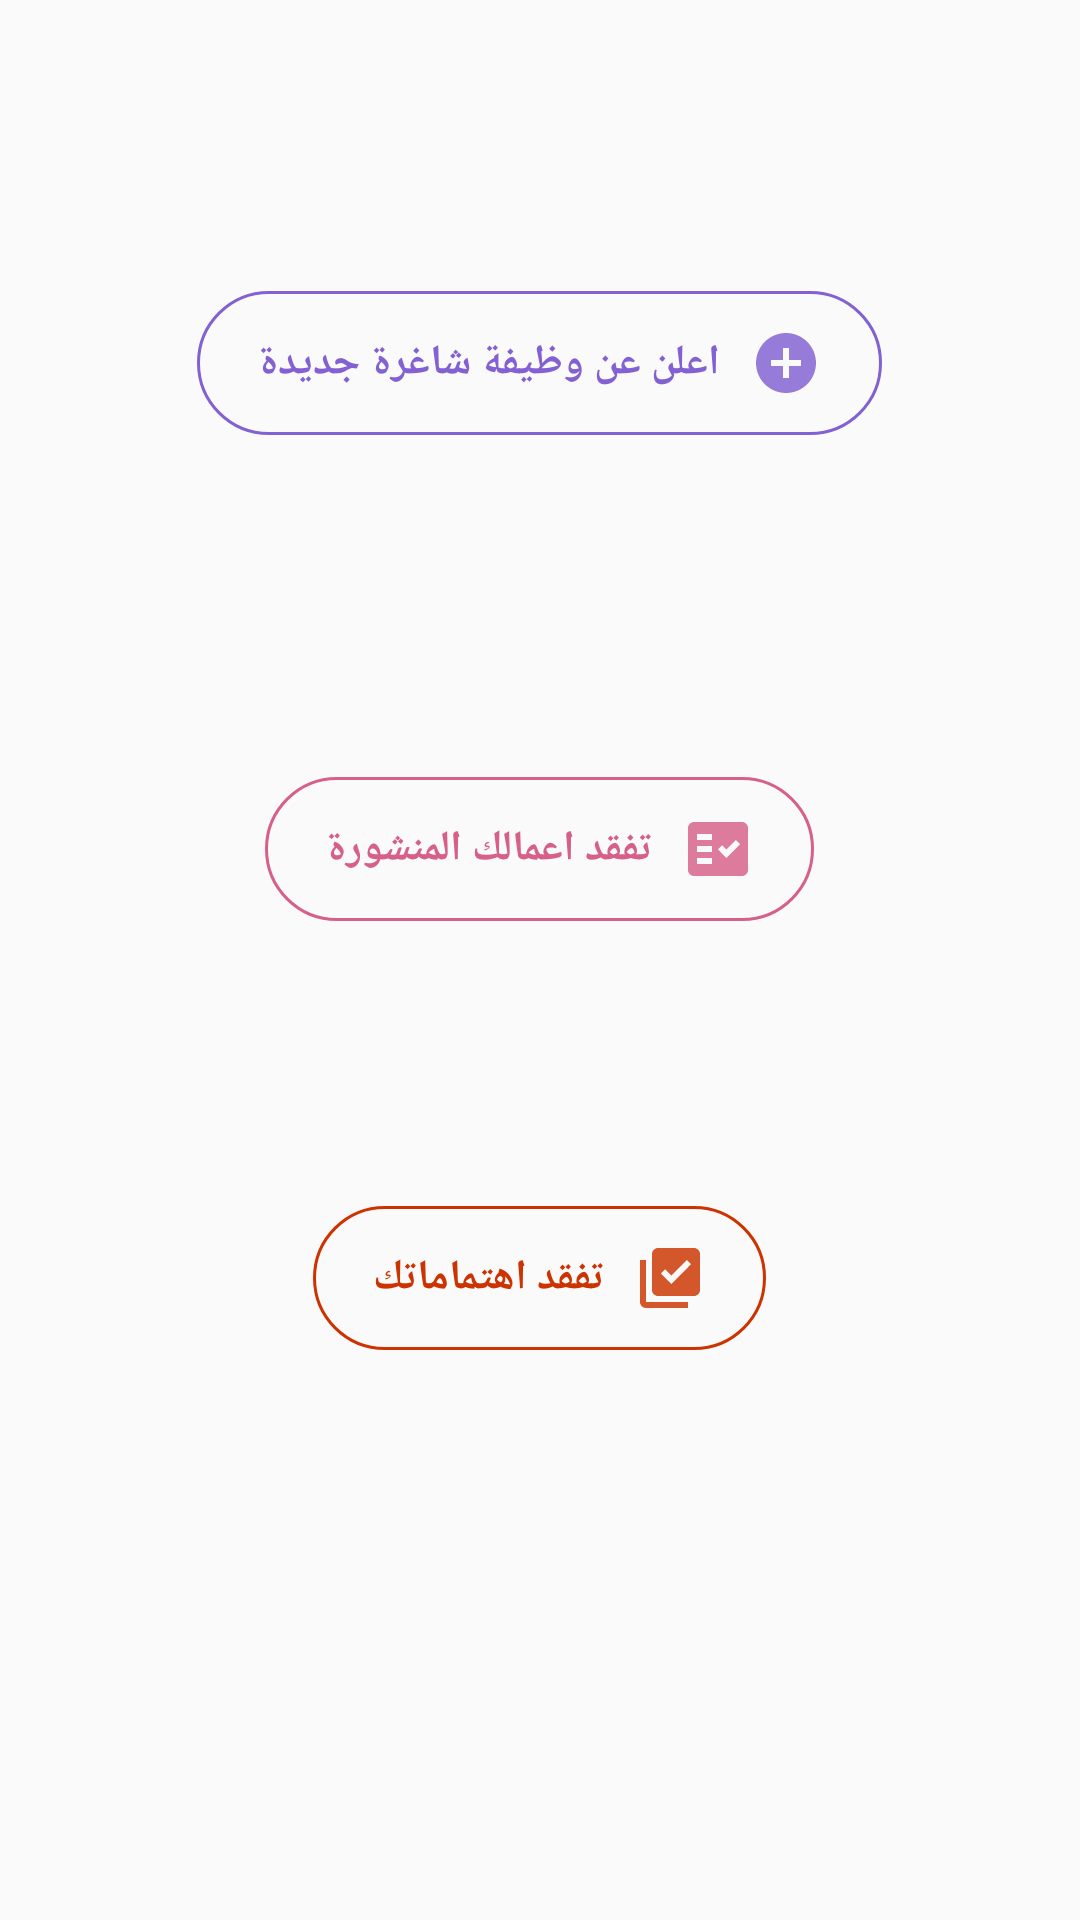

Screen size 1080px x 1920px. Icon name, then its center in pixels as [x,y]:
add: [786,363]
